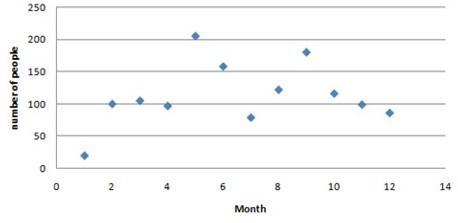axis: (54, 165, 448, 172), (54, 2, 60, 173)
point: (243, 112, 257, 125), (300, 46, 314, 59), (327, 88, 341, 101), (215, 62, 230, 74), (355, 99, 370, 111), (272, 84, 286, 96), (188, 31, 202, 43), (383, 107, 397, 119), (106, 99, 120, 110), (161, 101, 174, 112), (79, 150, 91, 161), (135, 95, 146, 107)
